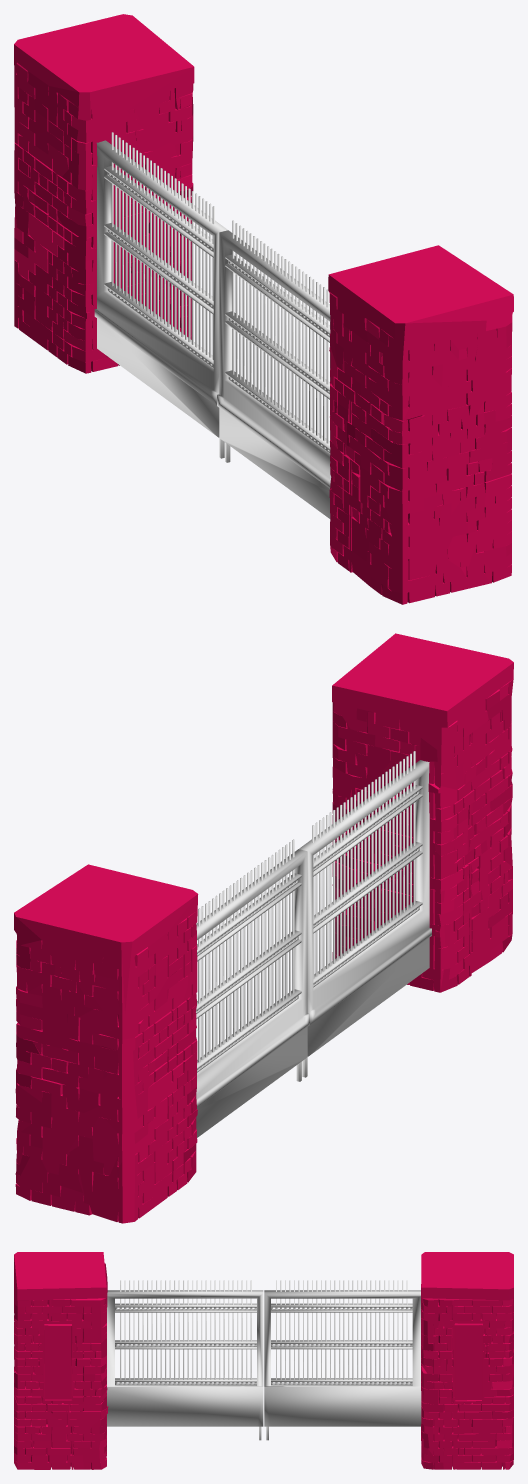
File: school_gate.glb
The picture shows the model from 3 angles, top to bottom: view 1: azimuth 30°, elevation 25°; view 2: azimuth 150°, elevation 25°; view 3: azimuth 270°, elevation 25°; orthographic projection. The views are drawn at different scales.
Visible parts, largest first — view 1: school_gate; view 2: school_gate; view 3: school_gate.
Boxes of the visible parts, left/top/right/bottom form: school_gate: left=14, top=14, right=513, bottom=604; school_gate: left=14, top=633, right=513, bottom=1223; school_gate: left=14, top=1252, right=513, bottom=1469.
Bounding box in the file's own units: 0.1366 × 0.296 × 0.7398.
